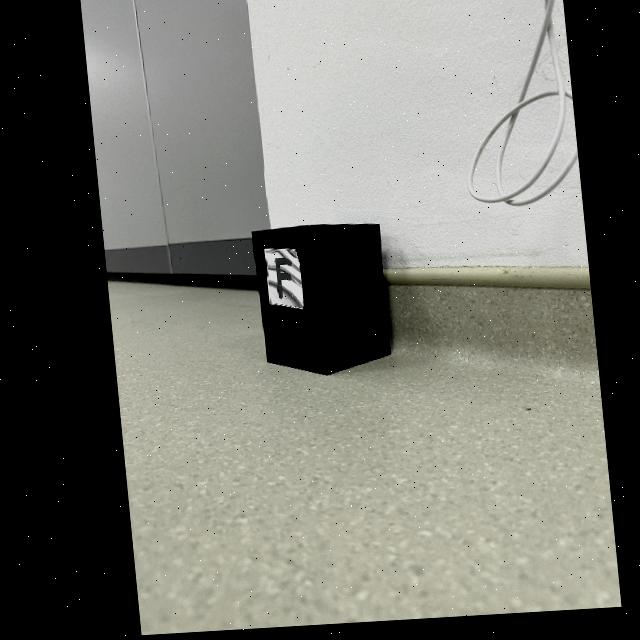F: (269, 261, 286, 302)
